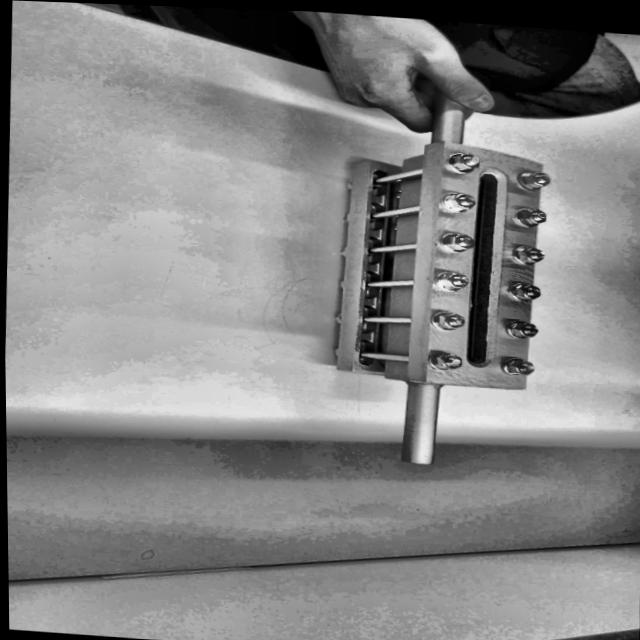ShuiWeiQi_12: (286, 108, 605, 477)
